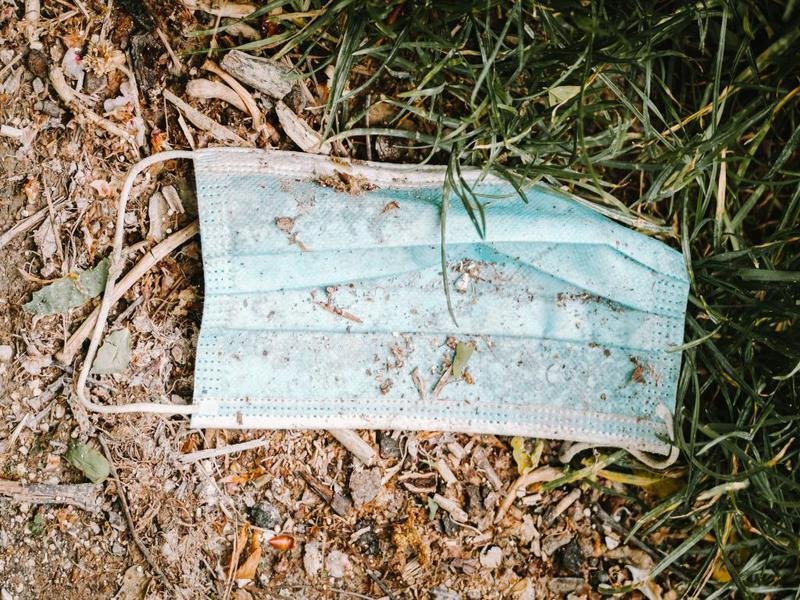mask: (65, 128, 708, 484)
